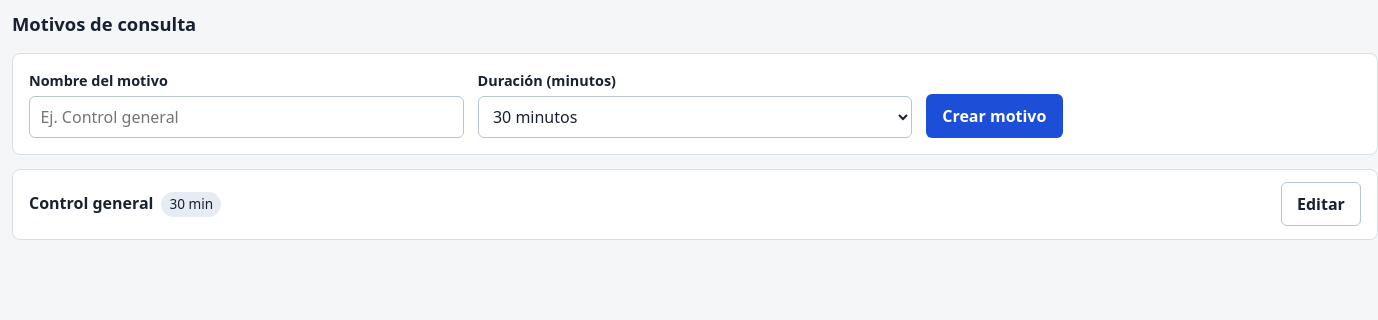
MotivosSection › edita un motivo existente y solo actualiza tras recibir 200
Expected: the text "Control general" is shown, [29,192,154,214]
Click the button "Editar" at [1321, 204], box [1281,182,1361,226]
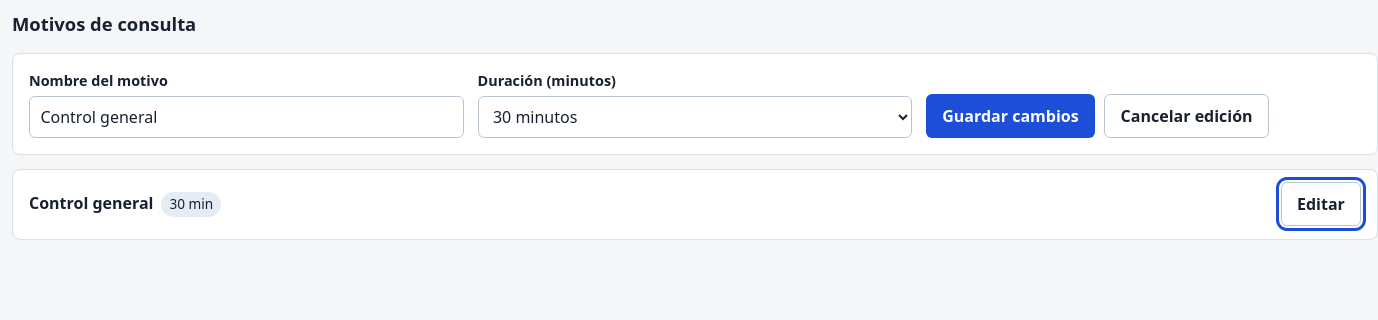
Replace the text in the field labelled "Nombre del motivo" with "Control anual" at [246, 117], box [29,96,464,138]
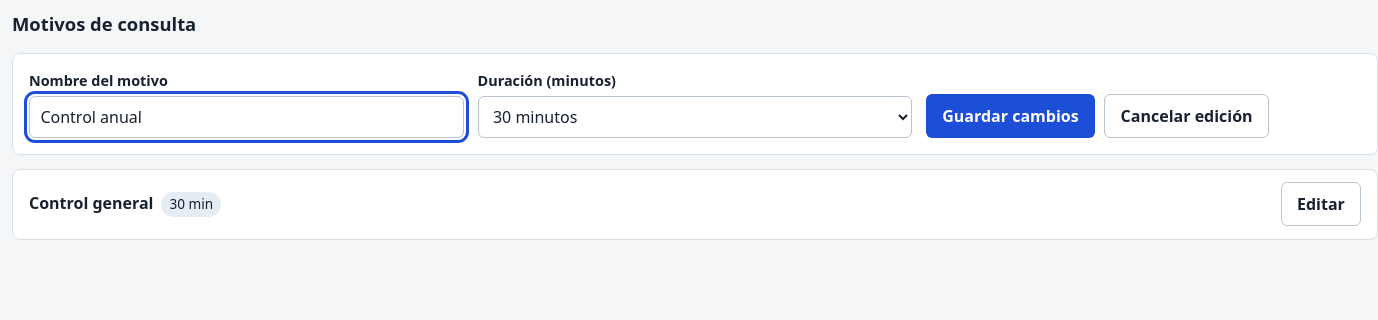
Select "45 minutos" in the dropdown labelled "Duración (minutos)" at [695, 117], box [478,96,912,138]
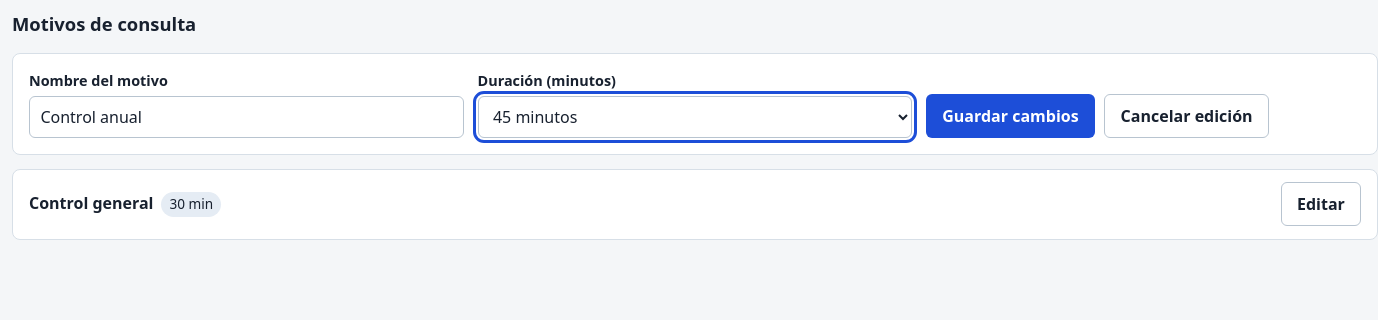
Click the button "Guardar cambios" at [1010, 116], box [926,94,1095,138]
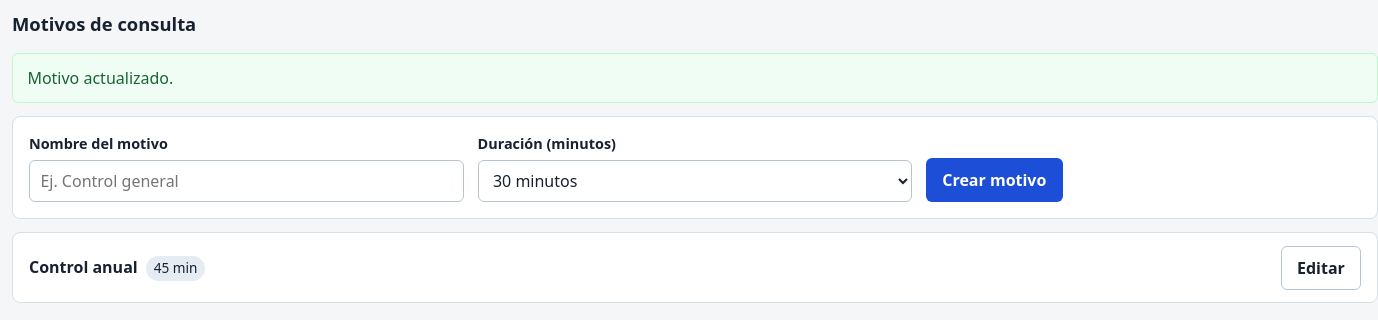
Now the text "Control anual" is shown, box [29,256,138,278]
